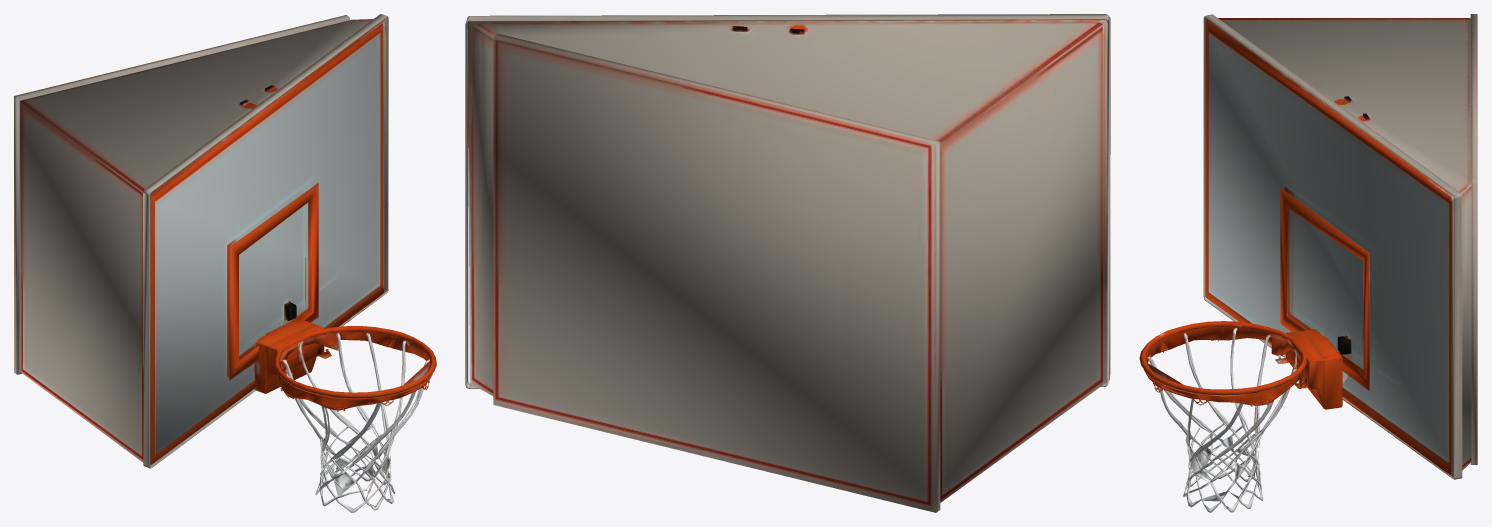
Rendered from hoop_v01.optimized.glb.
The picture shows the model from 3 angles, left to right: view 1: azimuth 30°, elevation 25°; view 2: azimuth 150°, elevation 25°; view 3: azimuth 270°, elevation 25°; orthographic projection. The views are drawn at different scales.
Visible parts, largest first — view 1: tripo_node_8ff6fa12-9f77-4722-8b34-7b3de77c7eed; view 2: tripo_node_8ff6fa12-9f77-4722-8b34-7b3de77c7eed; view 3: tripo_node_8ff6fa12-9f77-4722-8b34-7b3de77c7eed.
Part boxes in pixels (x1=…): tripo_node_8ff6fa12-9f77-4722-8b34-7b3de77c7eed: x1=14, y1=14, x2=436, y2=512; tripo_node_8ff6fa12-9f77-4722-8b34-7b3de77c7eed: x1=465, y1=14, x2=1110, y2=512; tripo_node_8ff6fa12-9f77-4722-8b34-7b3de77c7eed: x1=1139, y1=14, x2=1477, y2=512.
Size of the model in its own units: 0.998 by 0.955 by 0.7833.
Materials: 1 (1 with a texture image).
